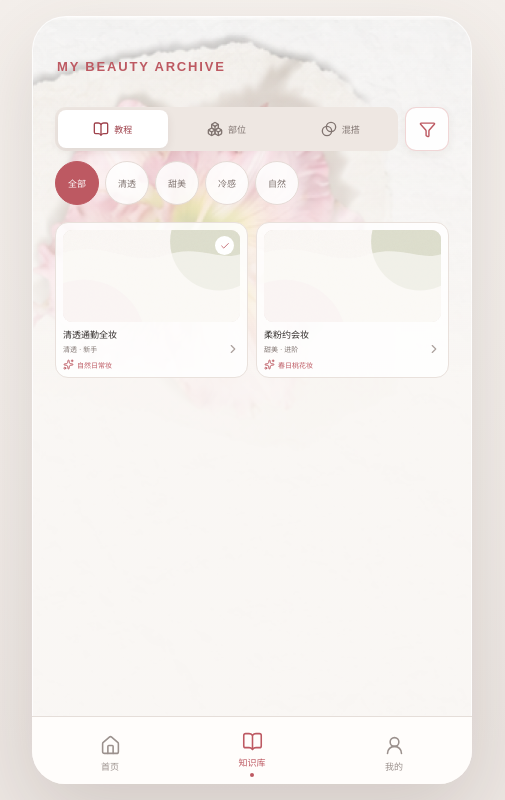
Test: replaces the product tab with the embedded mix editor
Click the tab "混搭": (340, 129) [285, 110, 395, 148]
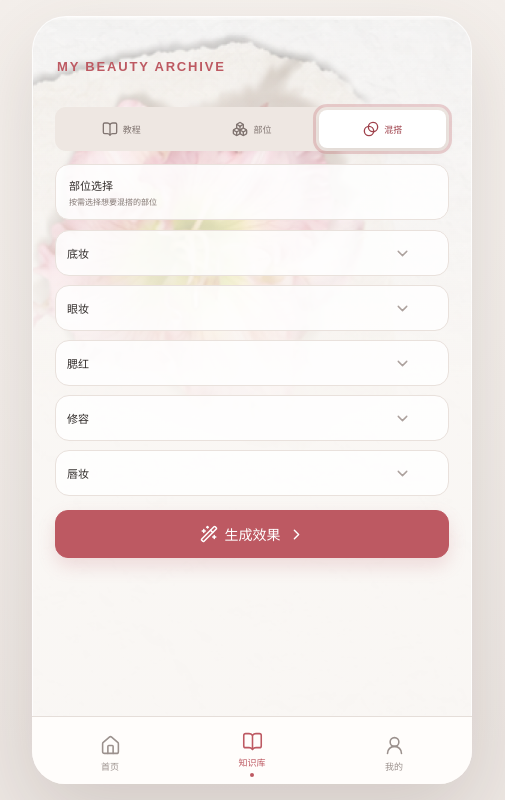
Expected: the element named "混搭编辑" is shown, [55, 151, 449, 558]
Expected: the button "生成效果" is enabled, [55, 510, 449, 558]
Expected: the button "筛选" is gone
